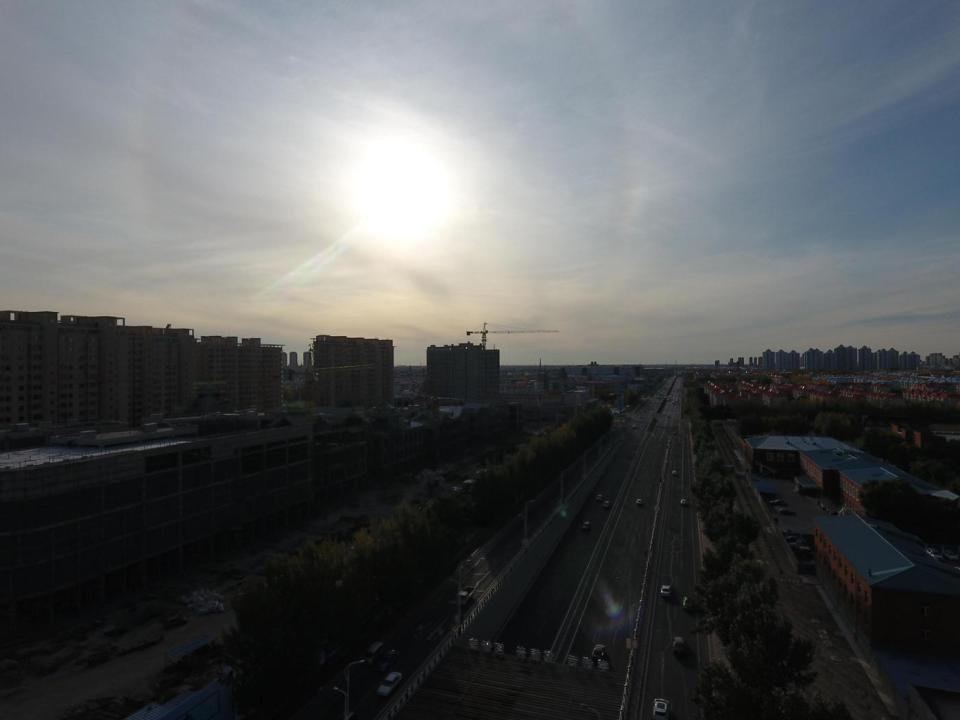car: (376, 670, 402, 699), (374, 649, 398, 673), (649, 696, 670, 720), (589, 642, 606, 666), (164, 614, 188, 629), (672, 635, 687, 654), (925, 547, 944, 562), (680, 595, 696, 610), (783, 535, 806, 544), (942, 550, 959, 562), (787, 540, 807, 550), (660, 583, 673, 598), (768, 498, 789, 505), (778, 508, 796, 515), (581, 520, 591, 531), (603, 500, 612, 508), (594, 494, 603, 502), (680, 498, 687, 505), (636, 498, 643, 505), (671, 470, 678, 476), (672, 430, 677, 434), (632, 424, 636, 429)
truck: (456, 586, 476, 608), (790, 545, 813, 561)
van: (360, 642, 383, 666)
